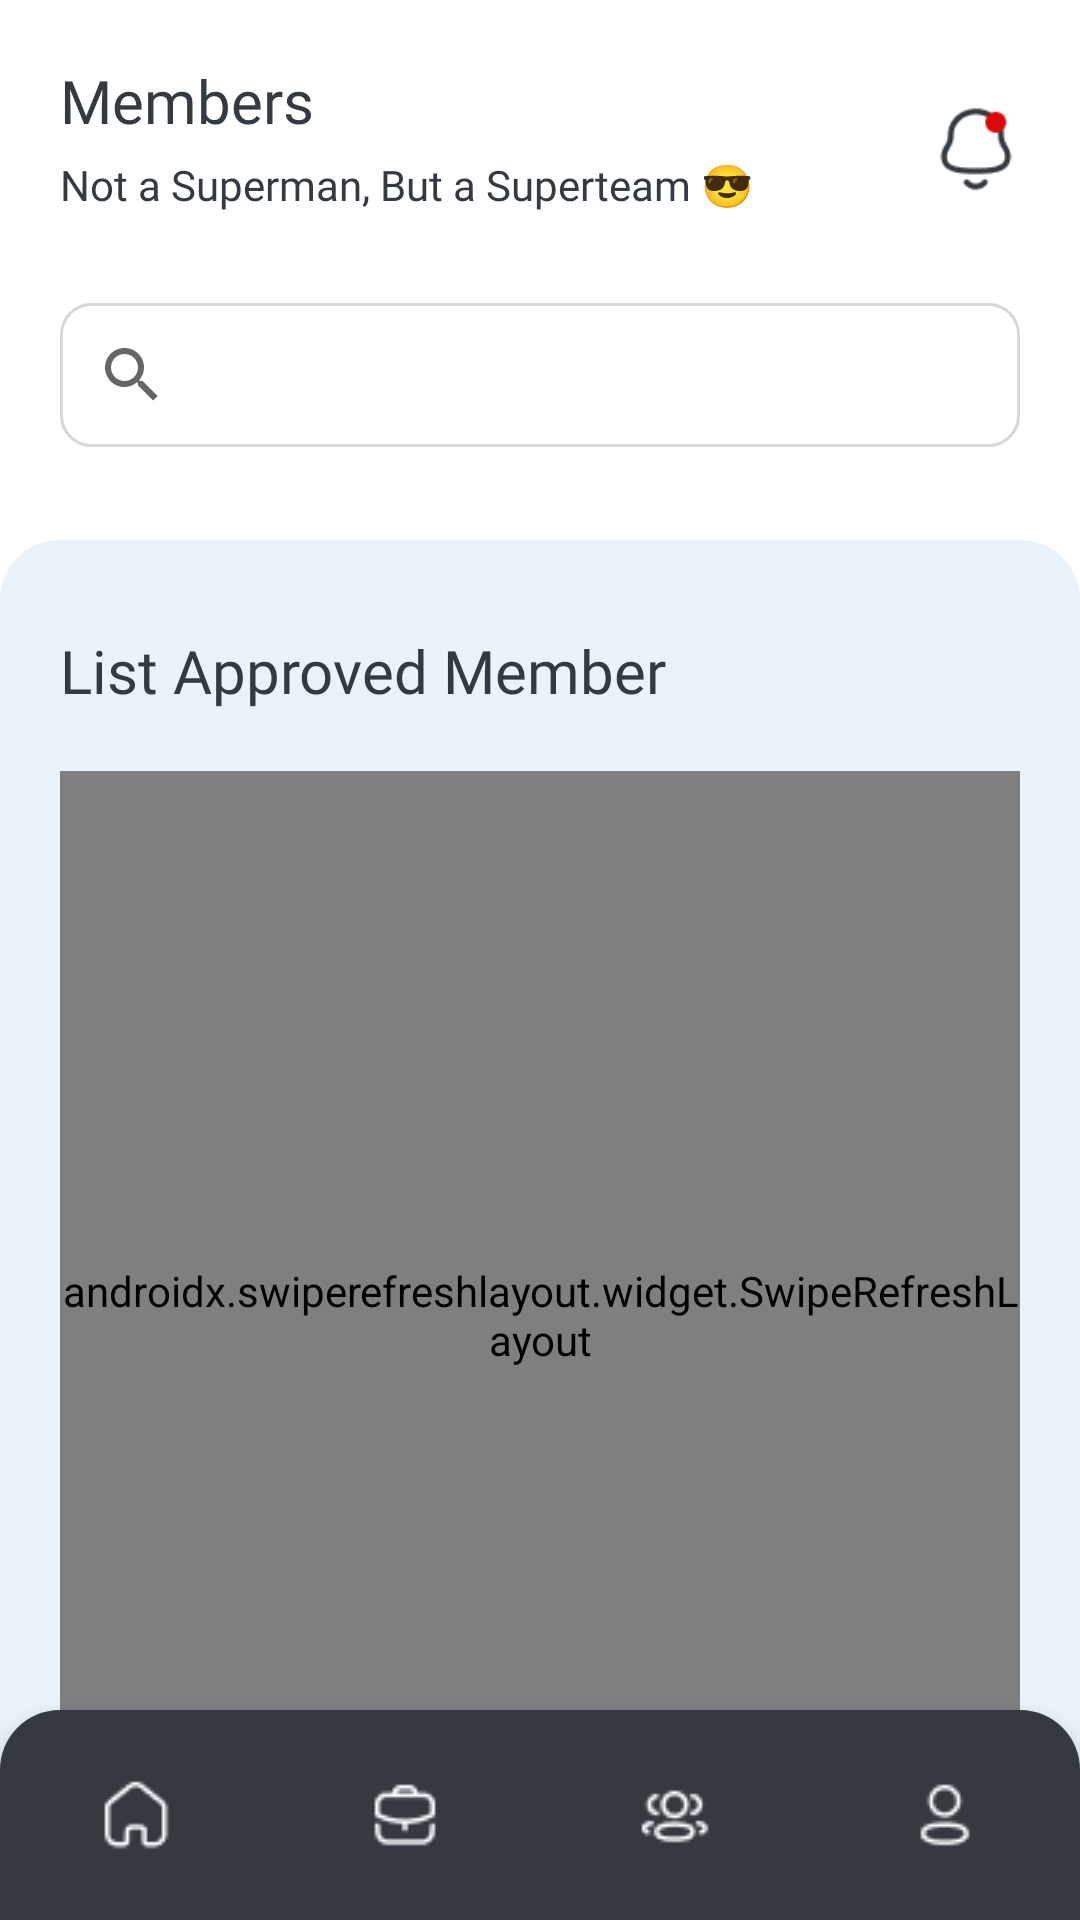

Screen size 1080*1920. Icon name, then its box in pixels as (x1, y1, x2, y2):
notifon: (940, 108, 1012, 190)
